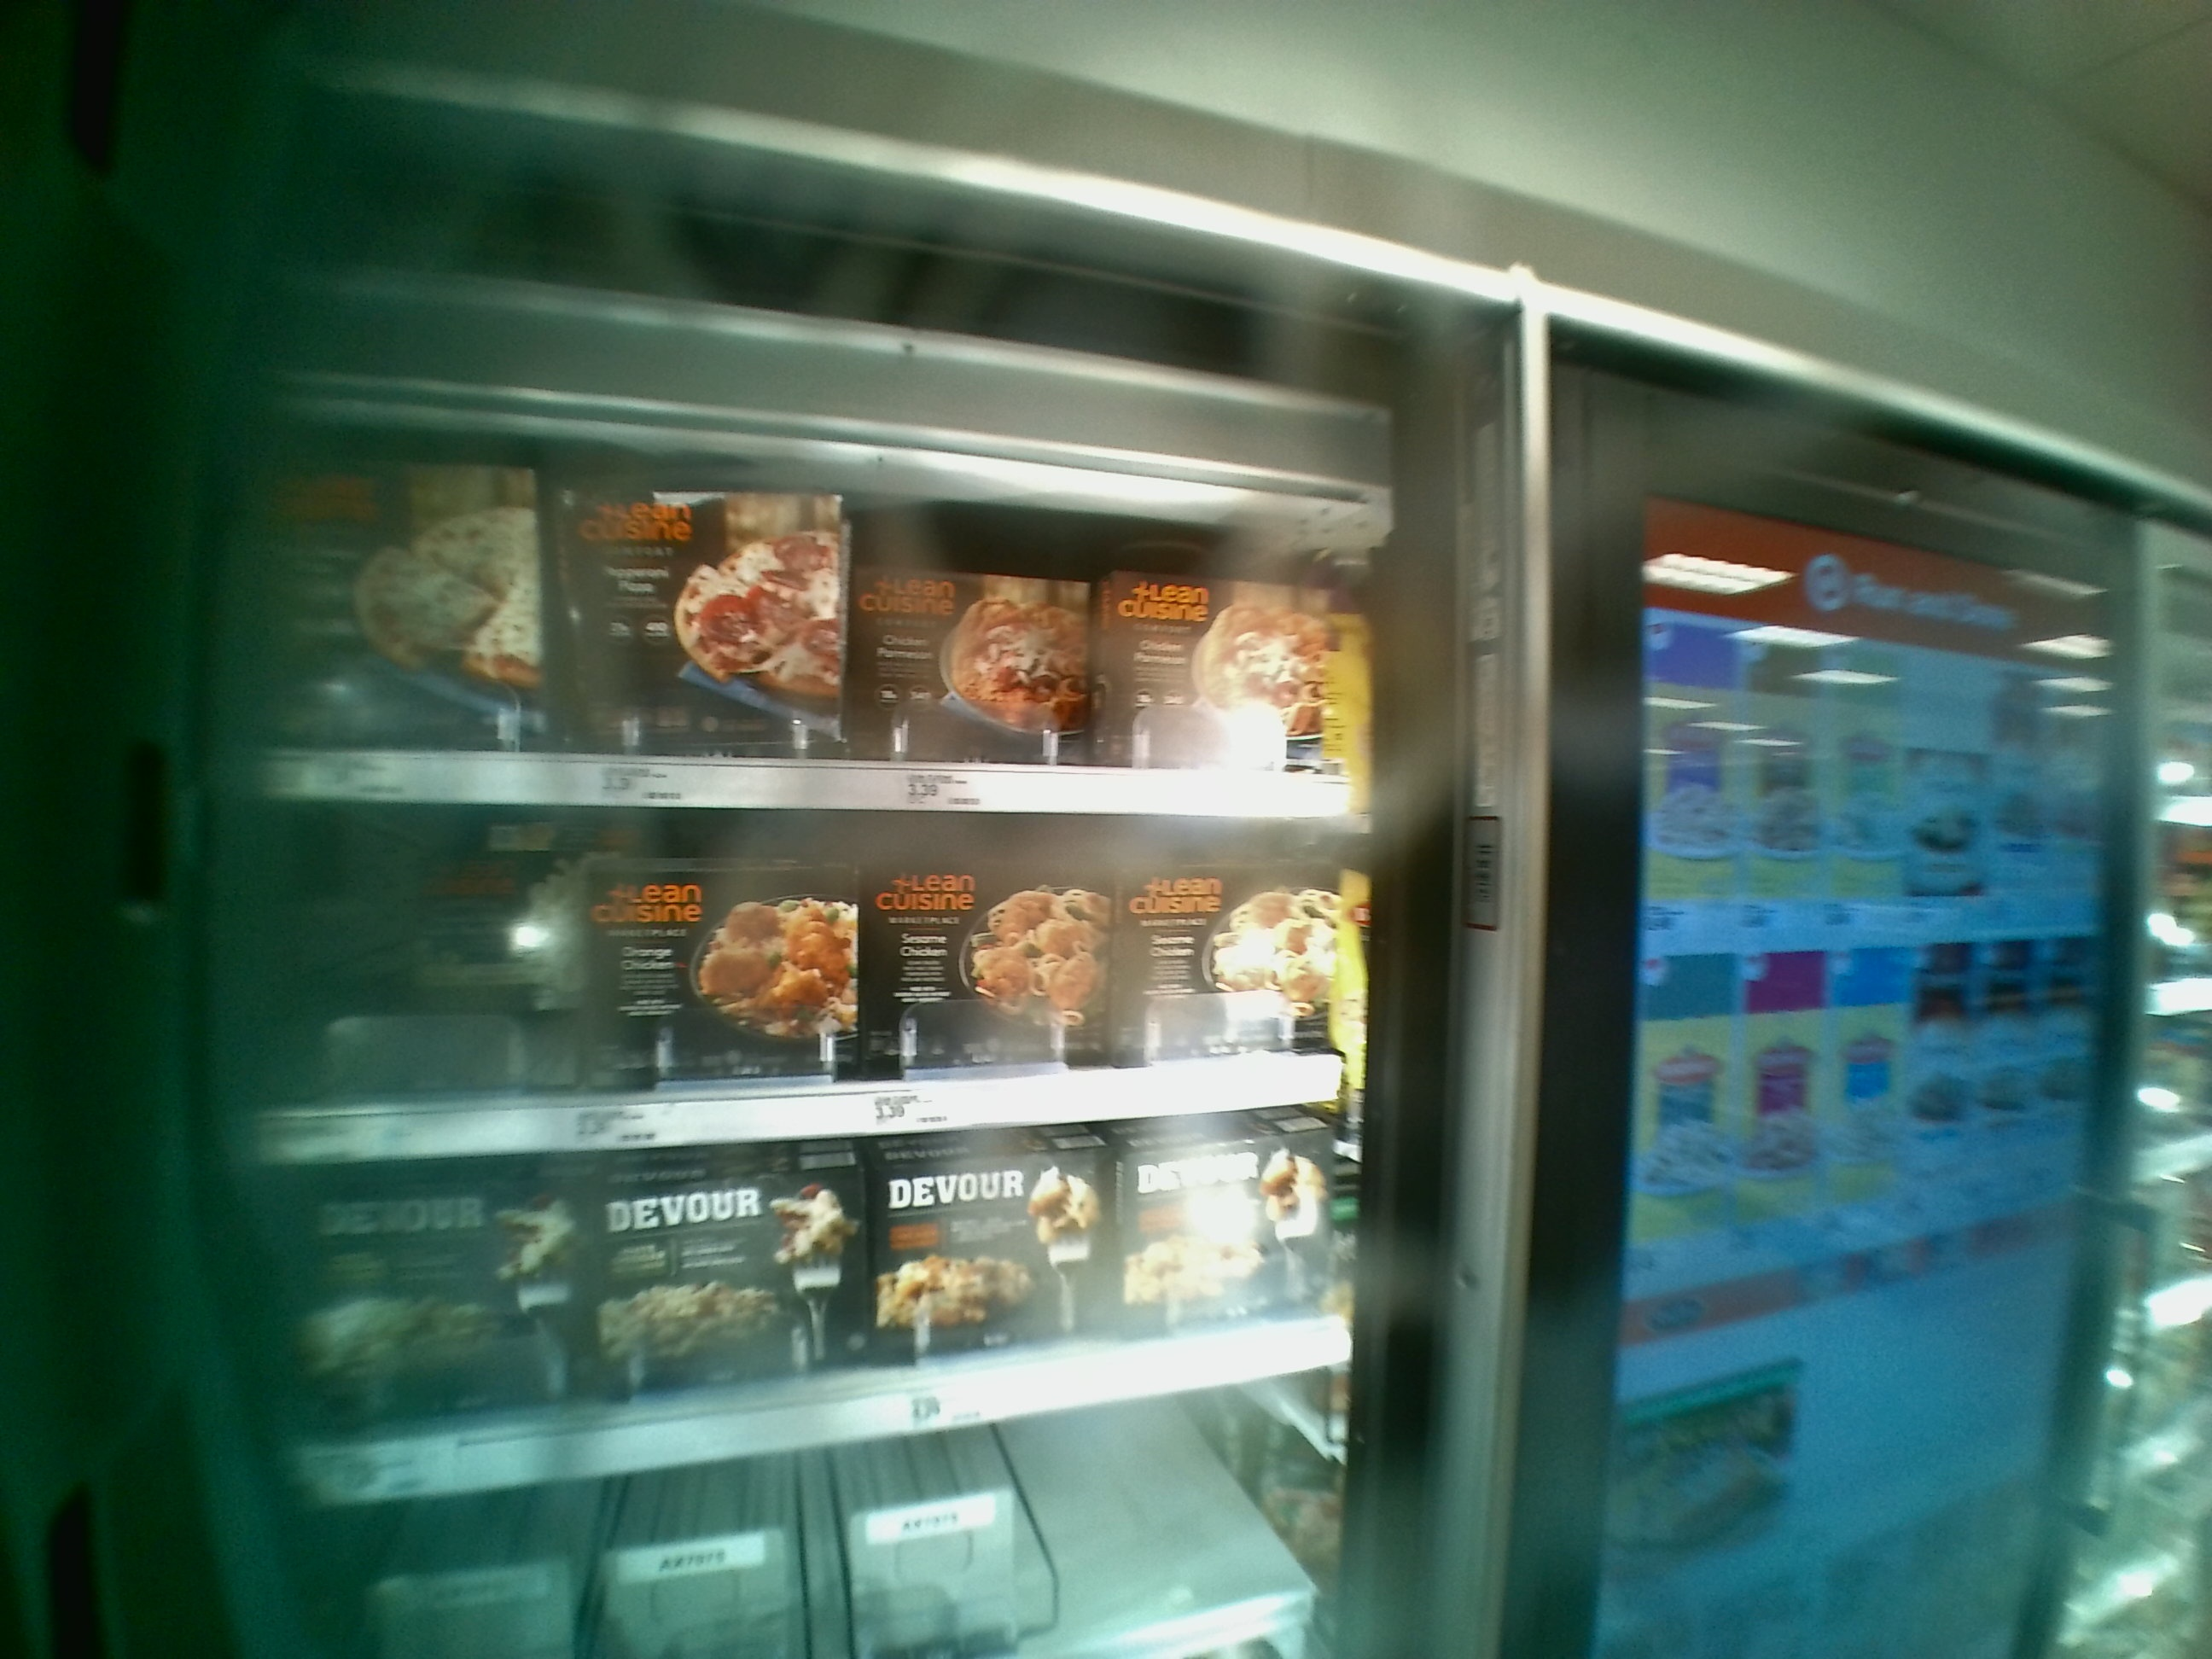shelf: (221, 396, 1371, 823), (223, 802, 1362, 1162)
